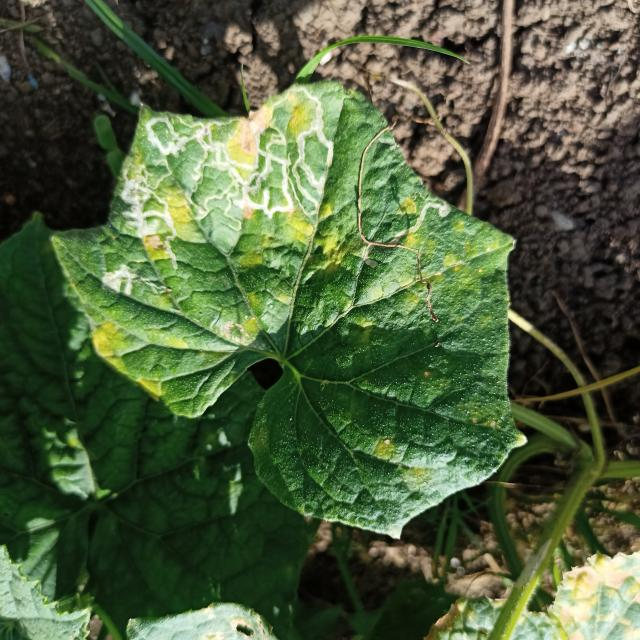disease_cucumber: (98, 93, 442, 344), (93, 313, 200, 410), (368, 434, 438, 492)
